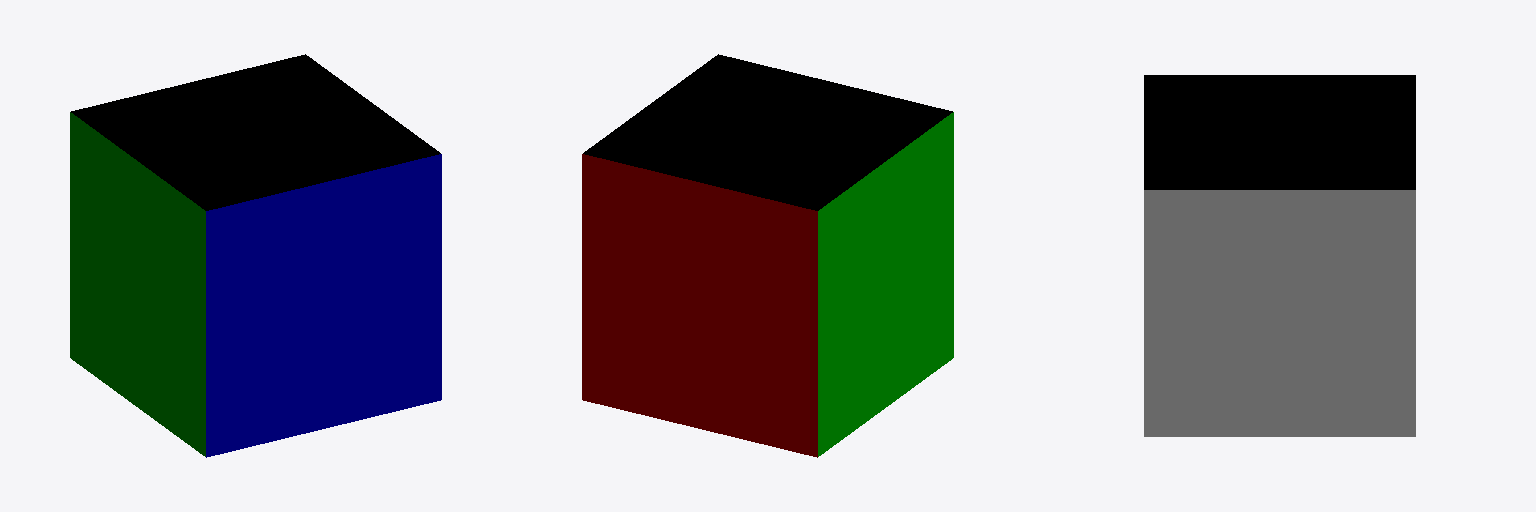
File: 'Cornellbox'-test(overdreven-veel-traingles).obj
3 renders of one model, left to right at view 1: azimuth 30°, elevation 25°; view 2: azimuth 150°, elevation 25°; view 3: azimuth 270°, elevation 25°, orthographic.
Parts seen in each view (by area): view 1: right_wall_Plane.003, front_wall_Plane.005, ceiling_Plane.004; view 2: left_wall_Plane.002, front_wall_Plane.005, ceiling_Plane.004; view 3: back_wall_Plane.001, ceiling_Plane.004.
Boxes of the visible parts, x1=… form: right_wall_Plane.003: x1=206, y1=154, x2=441, y2=457; front_wall_Plane.005: x1=70, y1=112, x2=205, y2=456; ceiling_Plane.004: x1=71, y1=54, x2=440, y2=210; left_wall_Plane.002: x1=582, y1=154, x2=817, y2=457; front_wall_Plane.005: x1=818, y1=112, x2=953, y2=456; ceiling_Plane.004: x1=583, y1=54, x2=952, y2=210; back_wall_Plane.001: x1=1144, y1=190, x2=1415, y2=436; ceiling_Plane.004: x1=1144, y1=75, x2=1415, y2=189.
Bounding box in the file's own units: 10 × 10 × 10.